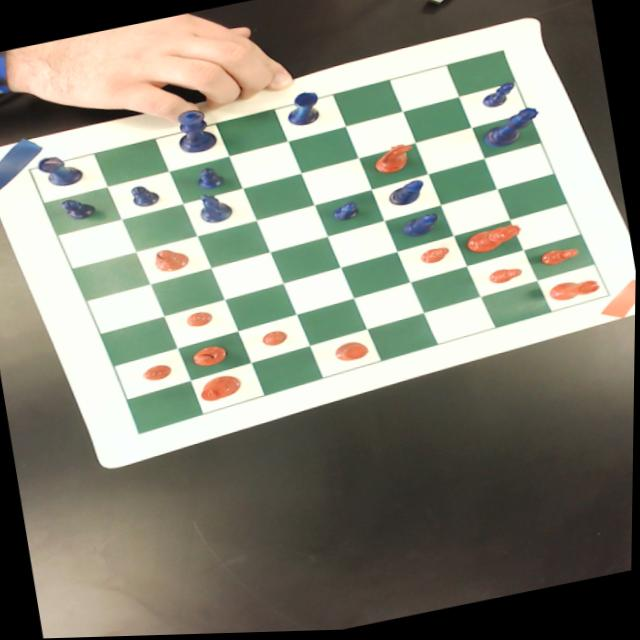B: (384, 180, 427, 211), (398, 214, 441, 243)
K: (173, 106, 219, 157)
N: (195, 192, 234, 227)
P: (57, 194, 97, 227), (479, 83, 516, 112), (127, 183, 161, 211), (193, 165, 227, 193), (330, 202, 361, 225)
Q: (480, 108, 543, 153)
R: (34, 151, 85, 191), (284, 91, 322, 129)
b: (152, 246, 190, 275), (192, 345, 229, 370)
k: (199, 373, 244, 404)
n: (370, 143, 416, 178)
p: (538, 248, 580, 271), (488, 268, 524, 289), (141, 363, 173, 385), (419, 248, 451, 268), (258, 330, 289, 350), (185, 311, 214, 330)
q: (462, 226, 524, 259)
r: (548, 279, 601, 306), (333, 341, 370, 366)
